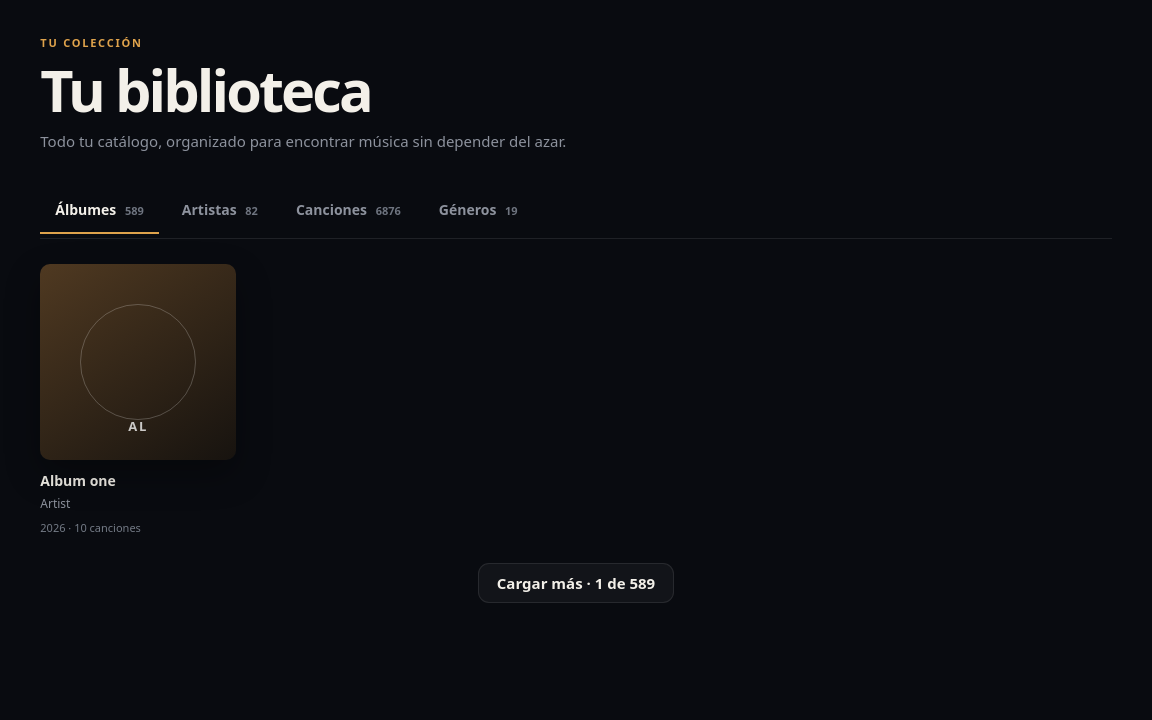
LibraryComponent › shows catalog totals and appends the next album page
Expected: the button "Álbumes 589" is shown, [40,188,159,234]
Expected: the button "Artistas 82" is shown, [167,188,273,234]
Click the button "Cargar más · 1 de 589".
click(576, 584)  # box [478,564,674,604]
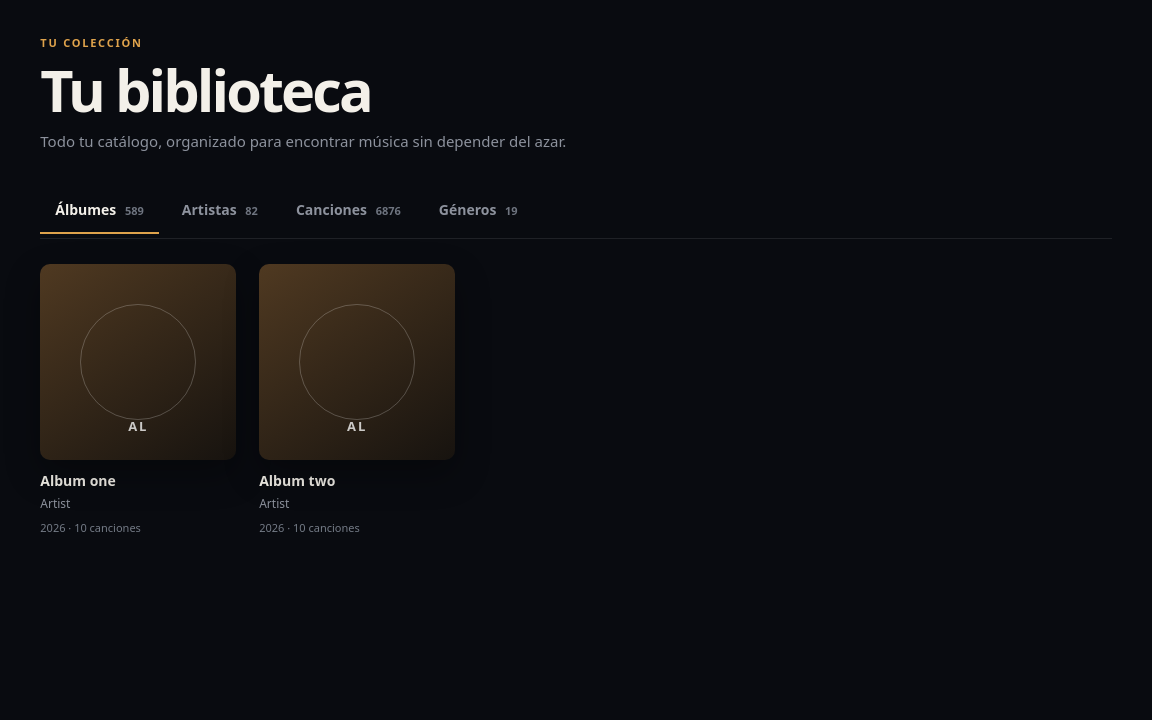
Expected: the number of elements with class "album-card" is 2, [40,264,236,536]; [259,264,455,536]
Expected: the element with class "load-more" is gone
